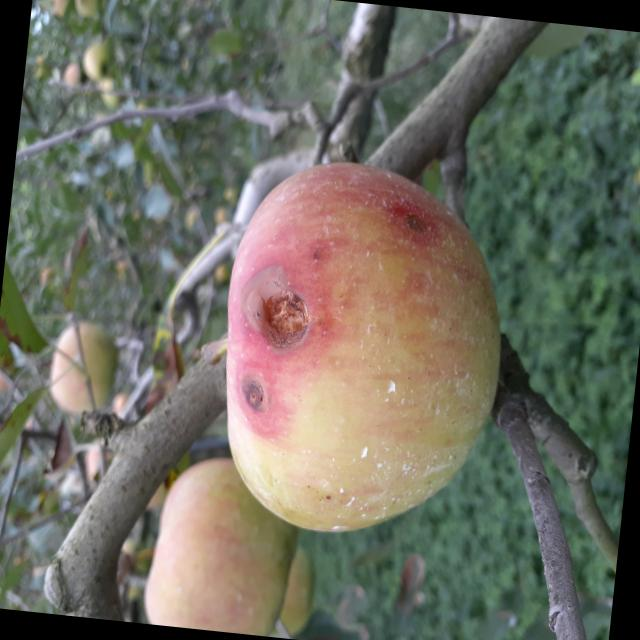rotten: (198, 145, 527, 557)
